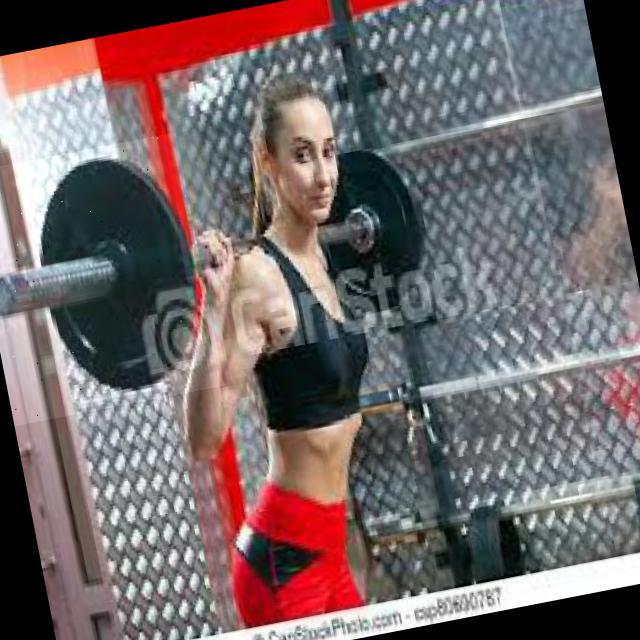barbell: (1, 133, 226, 427)
